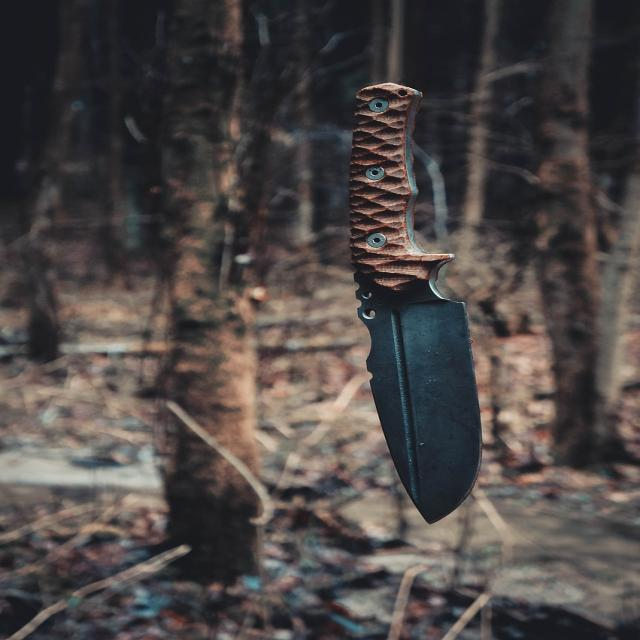knife: (351, 81, 480, 523)
